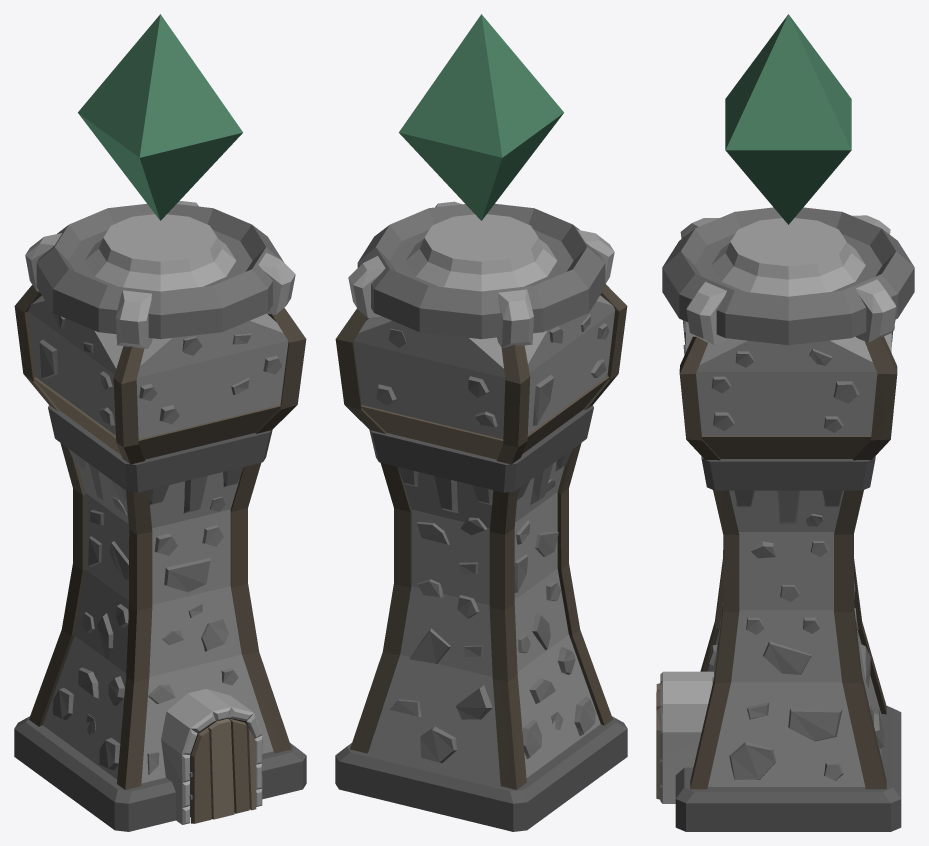
Rendered from _Wizard_tower_LVL_2.fbx.
3 views of the same model, side by side, from view 1: azimuth 30°, elevation 25°; view 2: azimuth 150°, elevation 25°; view 3: azimuth 270°, elevation 25° (orthographic).
Parts seen in each view (by area): view 1: Wizard_tower_LVL_2; view 2: Wizard_tower_LVL_2; view 3: Wizard_tower_LVL_2.
Boxes of the visible parts, <box> form: Wizard_tower_LVL_2: <box>14,14,306,831</box>; Wizard_tower_LVL_2: <box>335,14,627,831</box>; Wizard_tower_LVL_2: <box>656,14,914,831</box>.
Bounding box in the file's own units: 489 × 1645 × 500.
